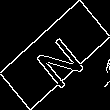N_NW: (25, 23, 85, 87)
